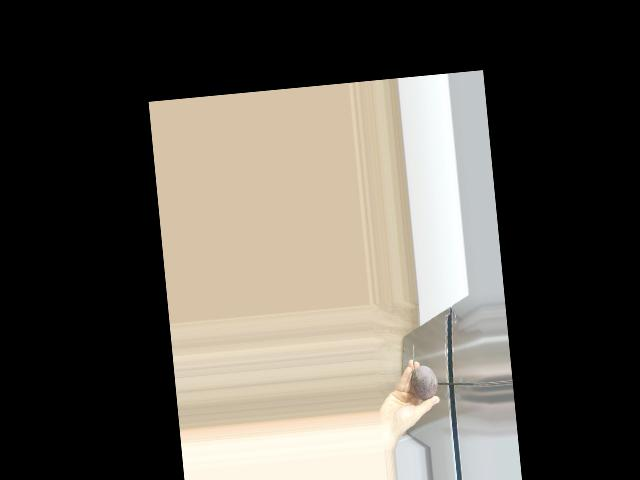beet: (407, 341, 438, 400)
